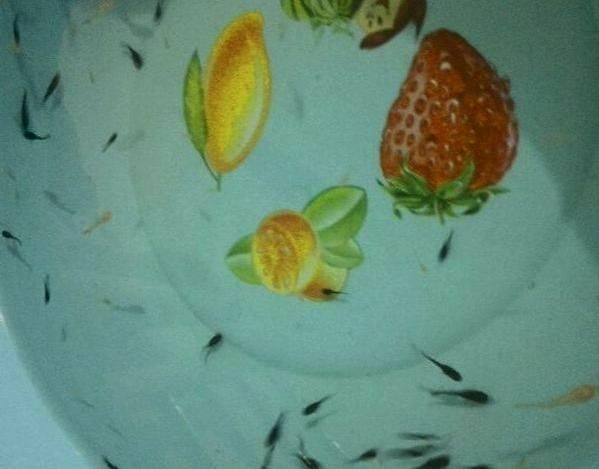fry: (524, 371, 597, 415), (417, 346, 468, 384), (429, 384, 494, 411), (420, 226, 464, 263), (36, 63, 74, 105), (12, 117, 58, 148), (257, 405, 291, 446), (296, 388, 341, 416), (7, 4, 31, 51), (32, 269, 57, 313), (118, 40, 149, 75), (196, 327, 231, 358), (305, 282, 354, 303), (10, 91, 33, 135), (96, 126, 120, 159), (145, 1, 173, 27), (1, 222, 26, 250), (425, 450, 460, 469), (91, 449, 125, 468), (352, 443, 383, 463), (293, 450, 331, 466)
